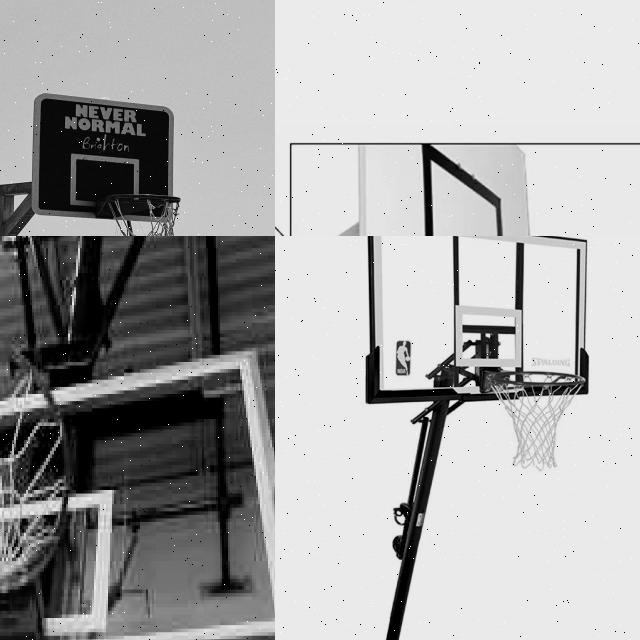backboard: (0, 342, 275, 640), (365, 236, 585, 414), (34, 88, 172, 214), (355, 141, 533, 236)
